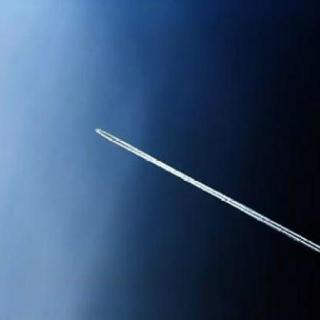Contrails: (93, 120, 320, 263)
